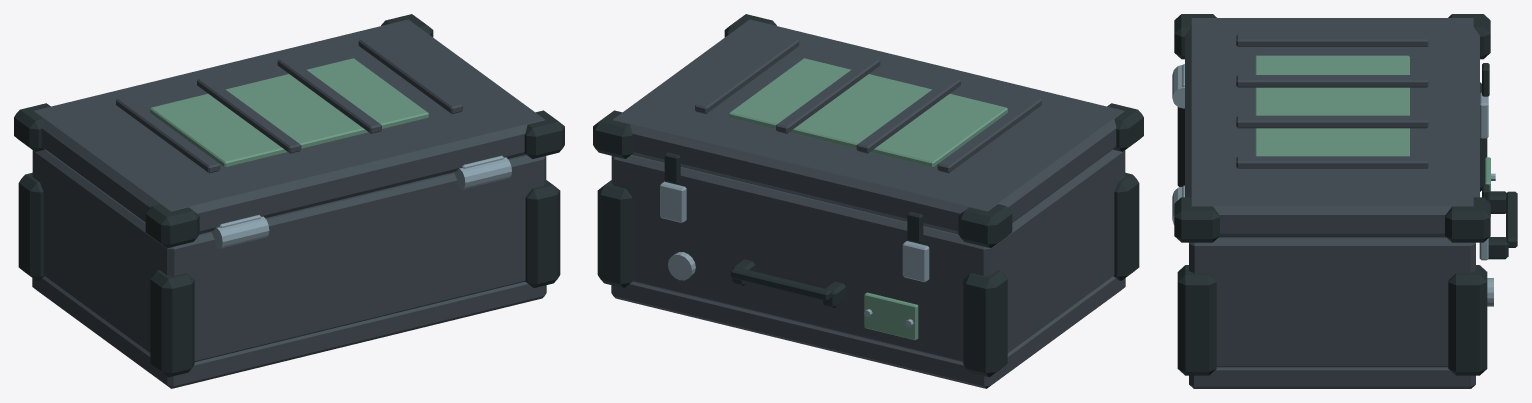
Rendered from diver_equipment_case.glb.
The picture shows the model from 3 angles, left to right: view 1: azimuth 30°, elevation 25°; view 2: azimuth 150°, elevation 25°; view 3: azimuth 270°, elevation 25°; orthographic projection. The views are drawn at different scales.
Parts seen in each view (by area): view 1: moving_lid, body_back_wall, body_side_wall (×2), moving_lid_identity, corner_pad (×3), body_floor, moving_rib (×4), moving_corner_cap (×3), body_hinge (×2); view 2: moving_lid, body_front_wall, body_side_wall (×2), moving_lid_identity, corner_pad (×3), body_floor, moving_rib (×4), moving_corner_cap (×3), latch_base (×2), dive_tag_plate, front_carry_grip, moving_latch_hook (×2) (+1 smaller); view 3: moving_lid, body_side_wall, moving_lid_identity, moving_rib (×4), corner_pad (×4), body_floor, moving_corner_cap (×4), front_carry_mount (×2), front_carry_grip, rim_seal, body_hinge, latch_base (+1 smaller).
Boxes of the visible parts, left/top/right/bottom form: moving_lid: left=33, top=19, right=545, bottom=233; body_back_wall: left=159, top=154, right=544, bottom=361; body_side_wall (×2): left=32, top=150, right=546, bottom=352; moving_lid_identity: left=150, top=58, right=428, bottom=167; corner_pad (×3): left=18, top=172, right=560, bottom=377; body_floor: left=32, top=276, right=546, bottom=388; moving_rib (×4): left=116, top=37, right=462, bottom=173; moving_corner_cap (×3): left=14, top=103, right=564, bottom=248; body_hinge (×2): left=212, top=157, right=511, bottom=248; moving_lid: left=612, top=19, right=1124, bottom=233; body_front_wall: left=613, top=154, right=998, bottom=361; body_side_wall (×2): left=611, top=150, right=1125, bottom=352; moving_lid_identity: left=729, top=58, right=1007, bottom=167; corner_pad (×3): left=597, top=172, right=1139, bottom=377; body_floor: left=611, top=276, right=1125, bottom=388; moving_rib (×4): left=695, top=37, right=1041, bottom=173; moving_corner_cap (×3): left=593, top=103, right=1143, bottom=248; latch_base (×2): left=660, top=181, right=929, bottom=282; dive_tag_plate: left=864, top=292, right=918, bottom=340; front_carry_grip: left=730, top=267, right=831, bottom=301; moving_latch_hook (×2): left=664, top=152, right=923, bottom=243; moving_lid: left=1185, top=18, right=1479, bottom=236; body_side_wall: left=1189, top=237, right=1475, bottom=367; moving_lid_identity: left=1255, top=55, right=1409, bottom=156; moving_rib (×4): left=1236, top=34, right=1428, bottom=168; corner_pad (×4): left=1177, top=82, right=1487, bottom=375; body_floor: left=1189, top=367, right=1475, bottom=388; moving_corner_cap (×4): left=1174, top=14, right=1490, bottom=242; front_carry_mount (×2): left=1488, top=191, right=1508, bottom=259; front_carry_grip: left=1506, top=191, right=1517, bottom=247; rim_seal: left=1219, top=236, right=1445, bottom=237; body_hinge: left=1172, top=65, right=1184, bottom=108; latch_base: left=1480, top=92, right=1488, bottom=138.
Bounding box in the file's own units: 1.47 × 0.723 × 1.06.
